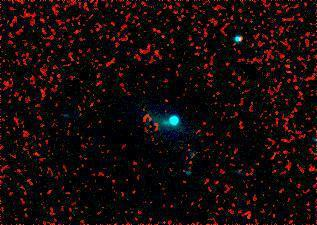star: (225, 22, 255, 52)
